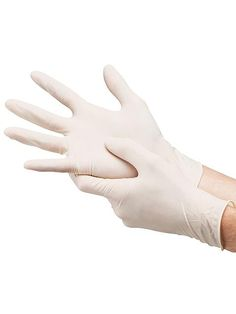gloves: (5, 61, 203, 194), (66, 136, 220, 253)
